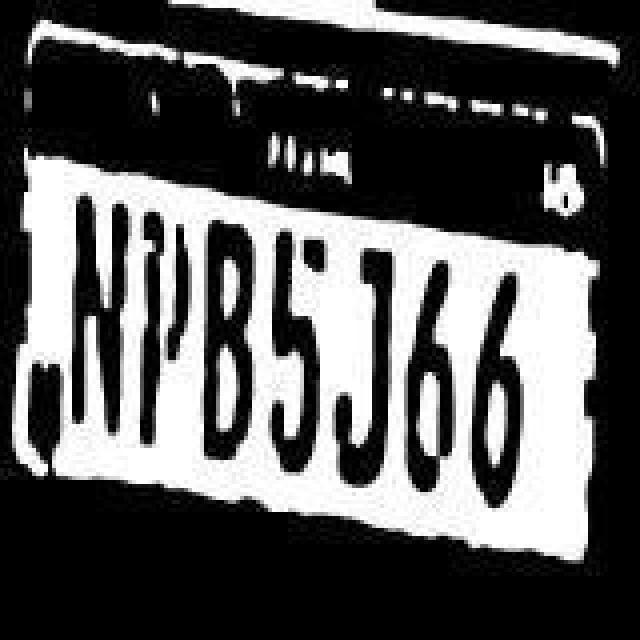5: (266, 220, 326, 476)
6: (468, 268, 524, 516), (402, 256, 454, 496)
B: (200, 216, 256, 464)
J: (332, 238, 396, 498)
N: (70, 178, 130, 438)
P: (136, 210, 192, 446)
